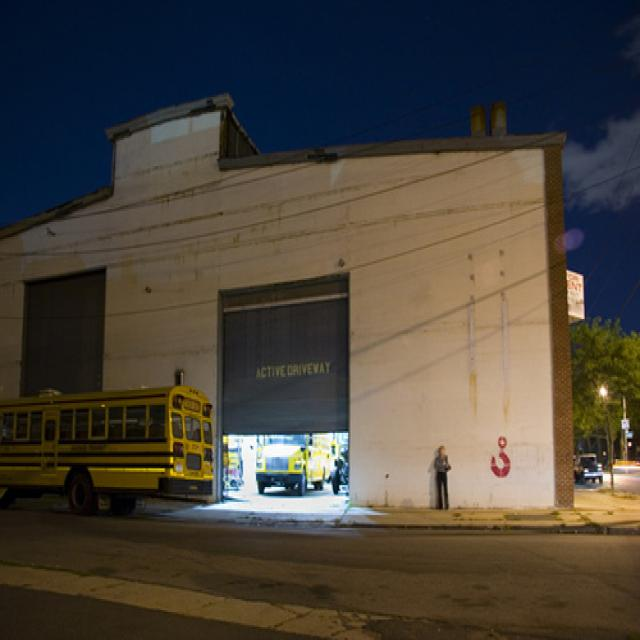Bus: (0, 368, 232, 532), (256, 415, 344, 515)
People: (430, 438, 459, 517)
car: (579, 440, 611, 494)
